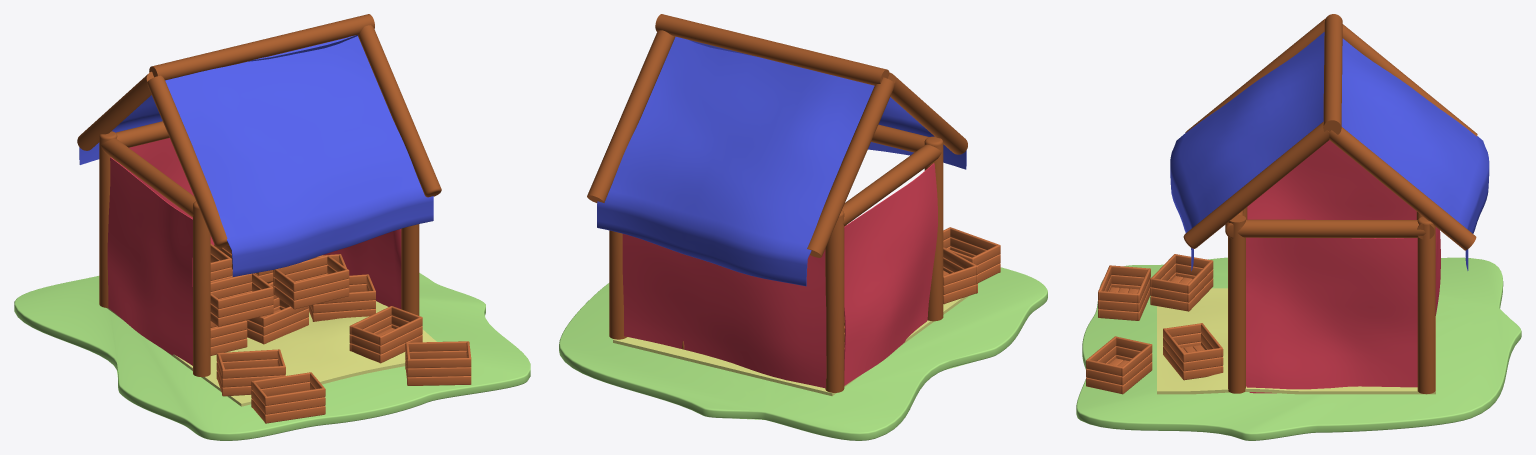
Rendered from grainary with base.fbx.
3 views of the same model, side by side, from view 1: azimuth 30°, elevation 25°; view 2: azimuth 150°, elevation 25°; view 3: azimuth 270°, elevation 25° (orthographic). The views are drawn at different scales.
Parts seen in each view (by area): view 1: Cube.014; view 2: Cube.014; view 3: Cube.014.
Part boxes in pixels (x1=…): Cube.014: x1=14, y1=14, x2=530, y2=440; Cube.014: x1=559, y1=14, x2=1047, y2=440; Cube.014: x1=1076, y1=14, x2=1521, y2=440.
Size of the model in its own units: 4594 by 3454 by 4884.
